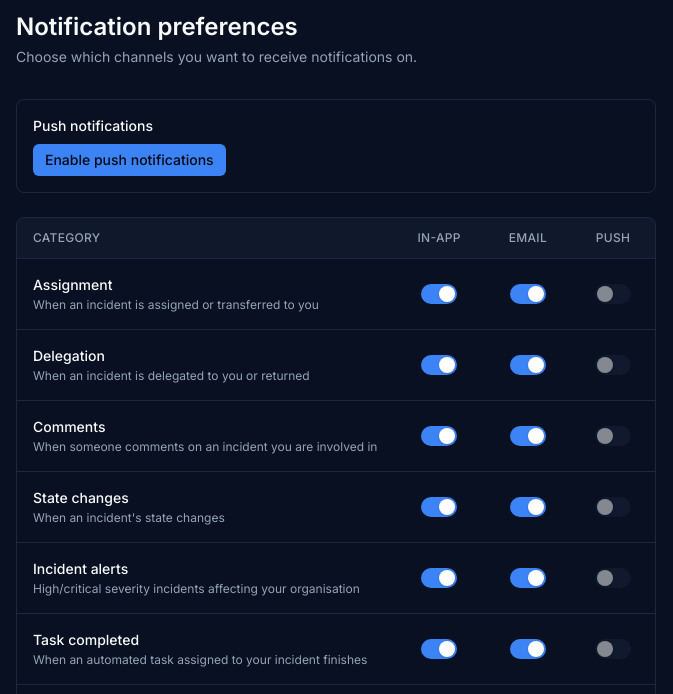
Test: NotificationPreferences › shows guardrail error when both assignment channels disabled
This screenshot has width=673, height=694.
Expected: the text "Assignment" is shown, [33, 276, 112, 293]
Click the switch named "assignment in-app" at (439, 294), box [421, 284, 457, 304]
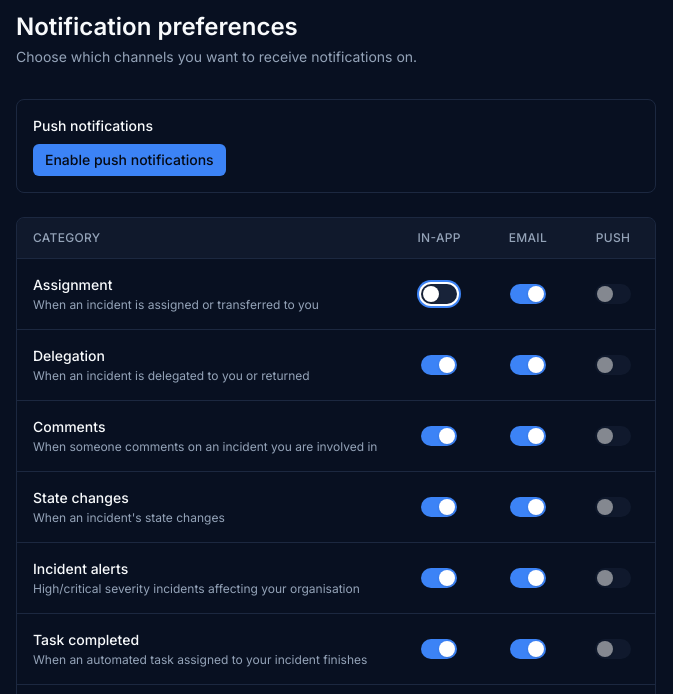
Click the switch named "assignment email" at (528, 294), box [510, 284, 546, 304]
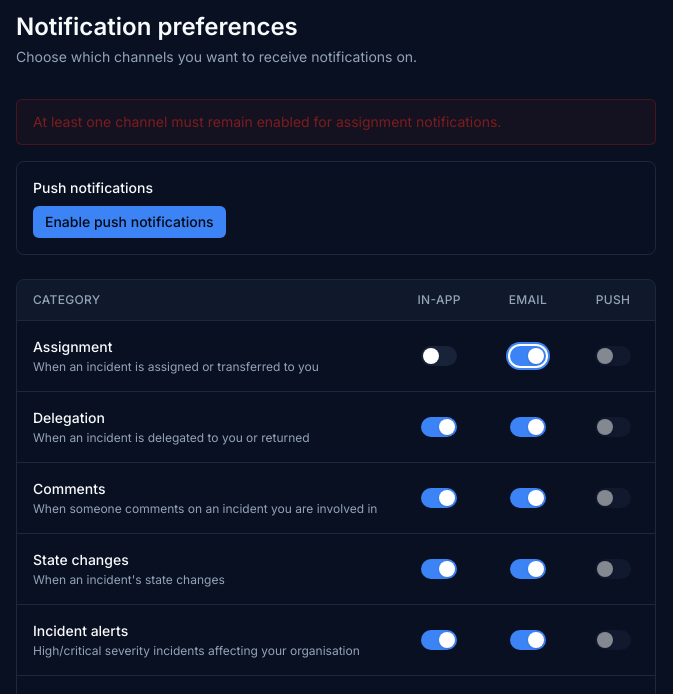
Expected: the message shows "assignment", [33, 113, 501, 130]
